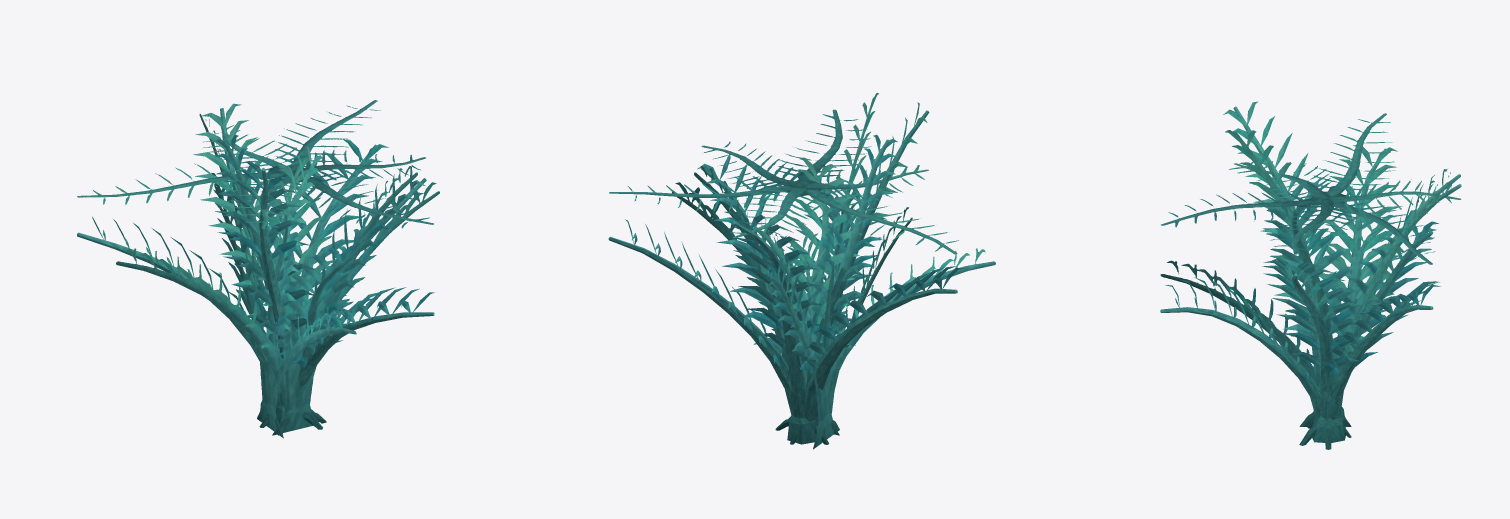
The model's file is Alga-06-Penacho-Azul.glb.
The picture shows the model from 3 angles, left to right: view 1: azimuth 30°, elevation 25°; view 2: azimuth 150°, elevation 25°; view 3: azimuth 270°, elevation 25°; orthographic projection. The views are drawn at different scales.
Visible parts, largest first — view 1: Alga-06-Penacho-Azul impostor, Colonia; view 2: Alga-06-Penacho-Azul impostor, Colonia; view 3: Alga-06-Penacho-Azul impostor, Colonia.
Boxes of the visible parts, box(x1,y1,x2,y2) form: Alga-06-Penacho-Azul impostor: box(77, 100, 439, 438); Colonia: box(77, 103, 434, 435); Alga-06-Penacho-Azul impostor: box(609, 93, 995, 449); Colonia: box(608, 102, 964, 444); Alga-06-Penacho-Azul impostor: box(1160, 113, 1461, 426); Colonia: box(1160, 101, 1461, 449).
Size of what is drawn, in the model's own units: 0.8713 by 0.8713 by 0.8713.
2 materials, 2 textured.
